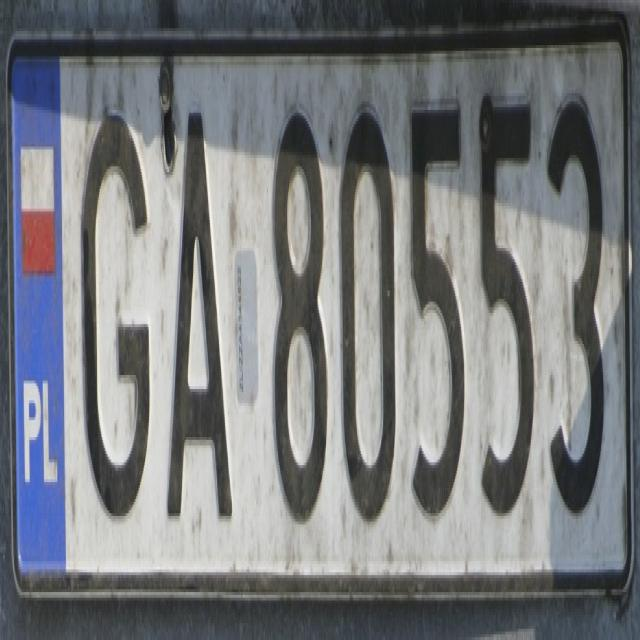pl_license_plate: (8, 45, 629, 581)
